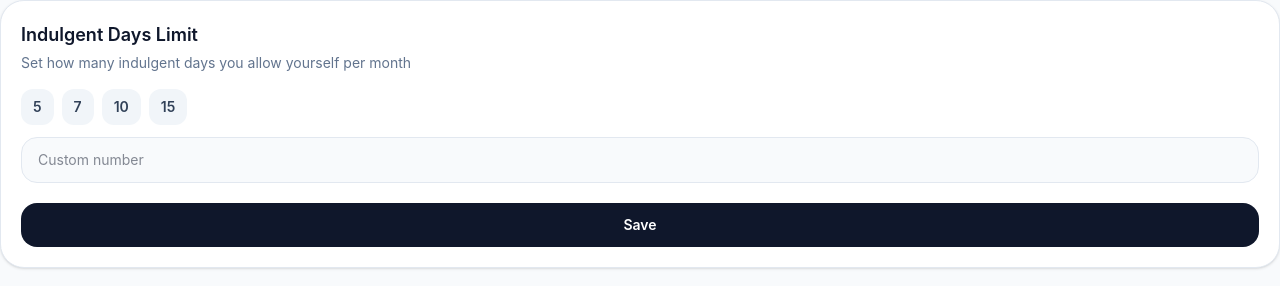
Test: quick-pick chips › clicking a chip sets that value in the input
This screenshot has width=1280, height=286.
What coordinates should you click on to do the following:
click the button "7"
I would click on:
 (78, 107)
Its box is [62,89,94,125].
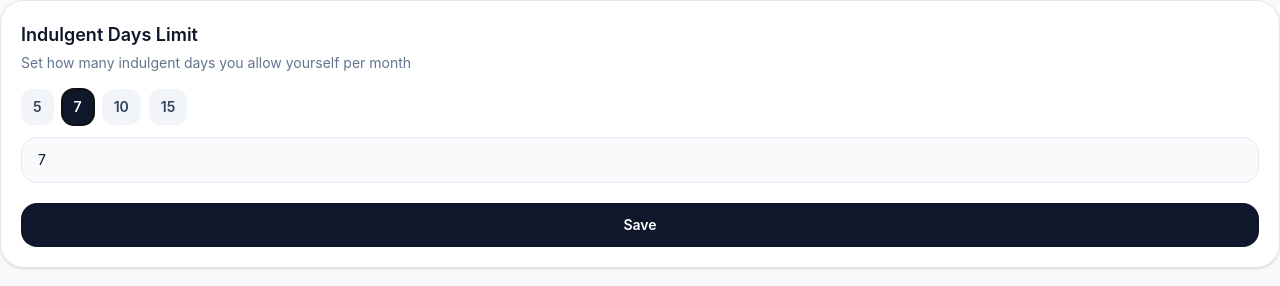
Now the number field holds "7", box [21,137,1259,183]
